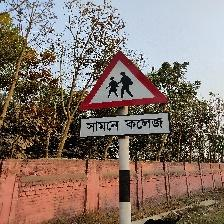College-in-front: (59, 26, 187, 154)
